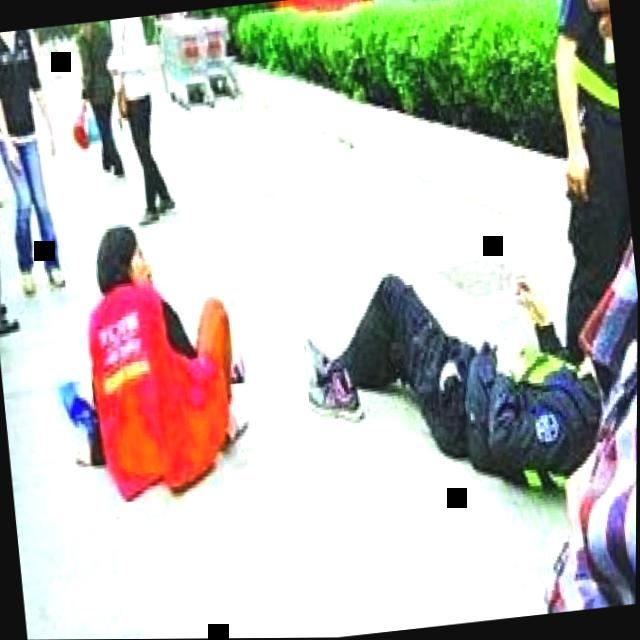Fall-Detected: (275, 205, 639, 518)
